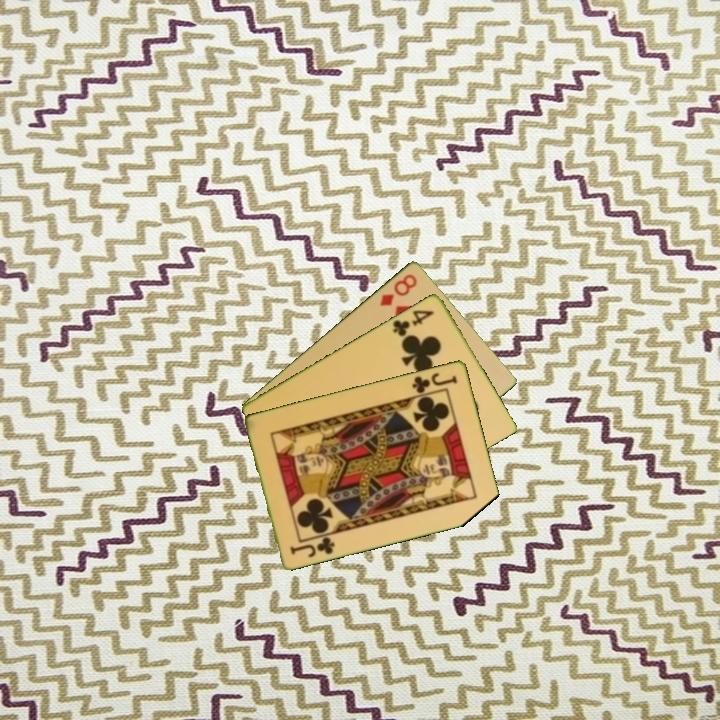4c: (389, 306, 437, 339)
8d: (376, 270, 420, 309)
Jc: (409, 369, 460, 396), (287, 533, 338, 560)
